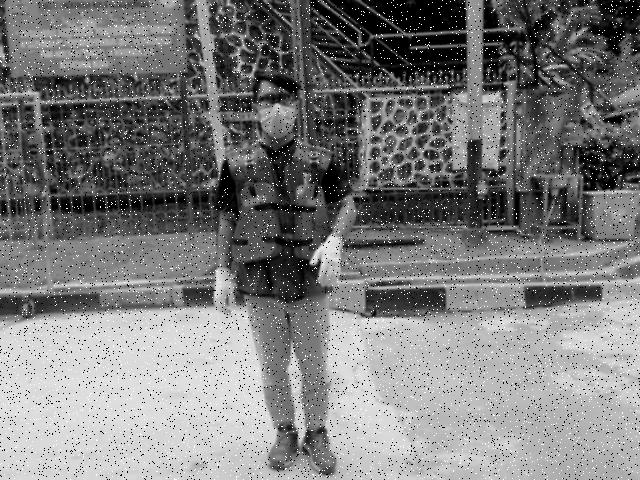glasses: (257, 94, 299, 106)
gloves: (308, 229, 343, 292), (210, 266, 237, 317)
mask: (258, 104, 297, 138)
safety-shoes: (301, 426, 340, 476), (264, 421, 301, 473)
vest: (231, 182, 334, 264)
